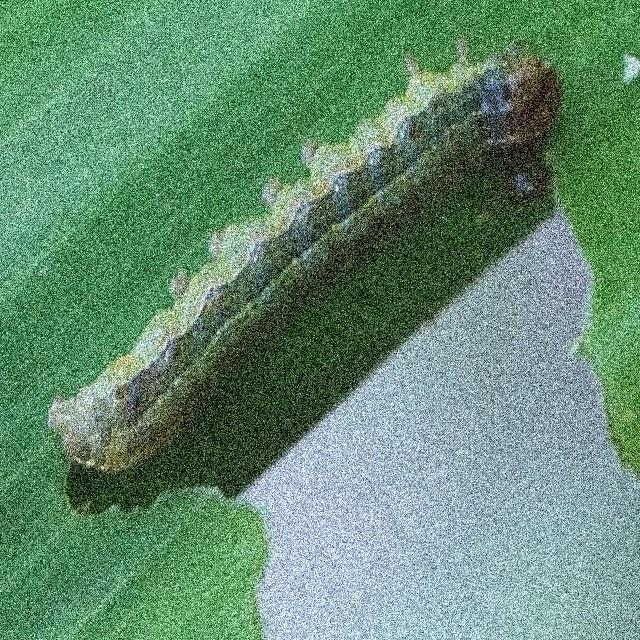worm: (48, 37, 565, 515)
